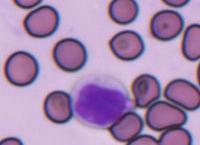L: (72, 73, 133, 129)
